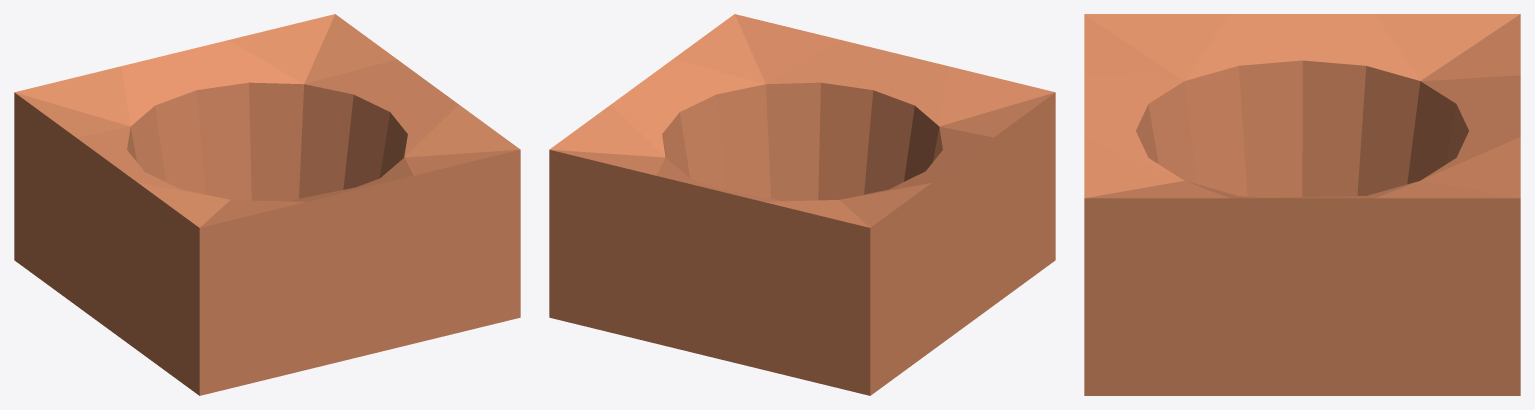
Rendered from hole.fbx.
3 views of the same model, side by side, from view 1: azimuth 30°, elevation 25°; view 2: azimuth 150°, elevation 25°; view 3: azimuth 270°, elevation 25° (orthographic). The views are drawn at different scales.
Visible parts, largest first — view 1: Cube; view 2: Cube; view 3: Cube.
Boxes of the visible parts, box(x1,y1,x2,y2) form: Cube: box(14, 14, 520, 395); Cube: box(549, 14, 1055, 395); Cube: box(1084, 14, 1520, 395).
Bounding box in the file's own units: 200 × 100 × 200.
